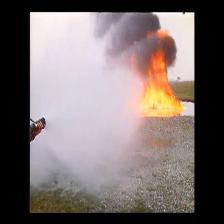fire: (149, 69, 181, 115)
smoke: (100, 13, 157, 59)
